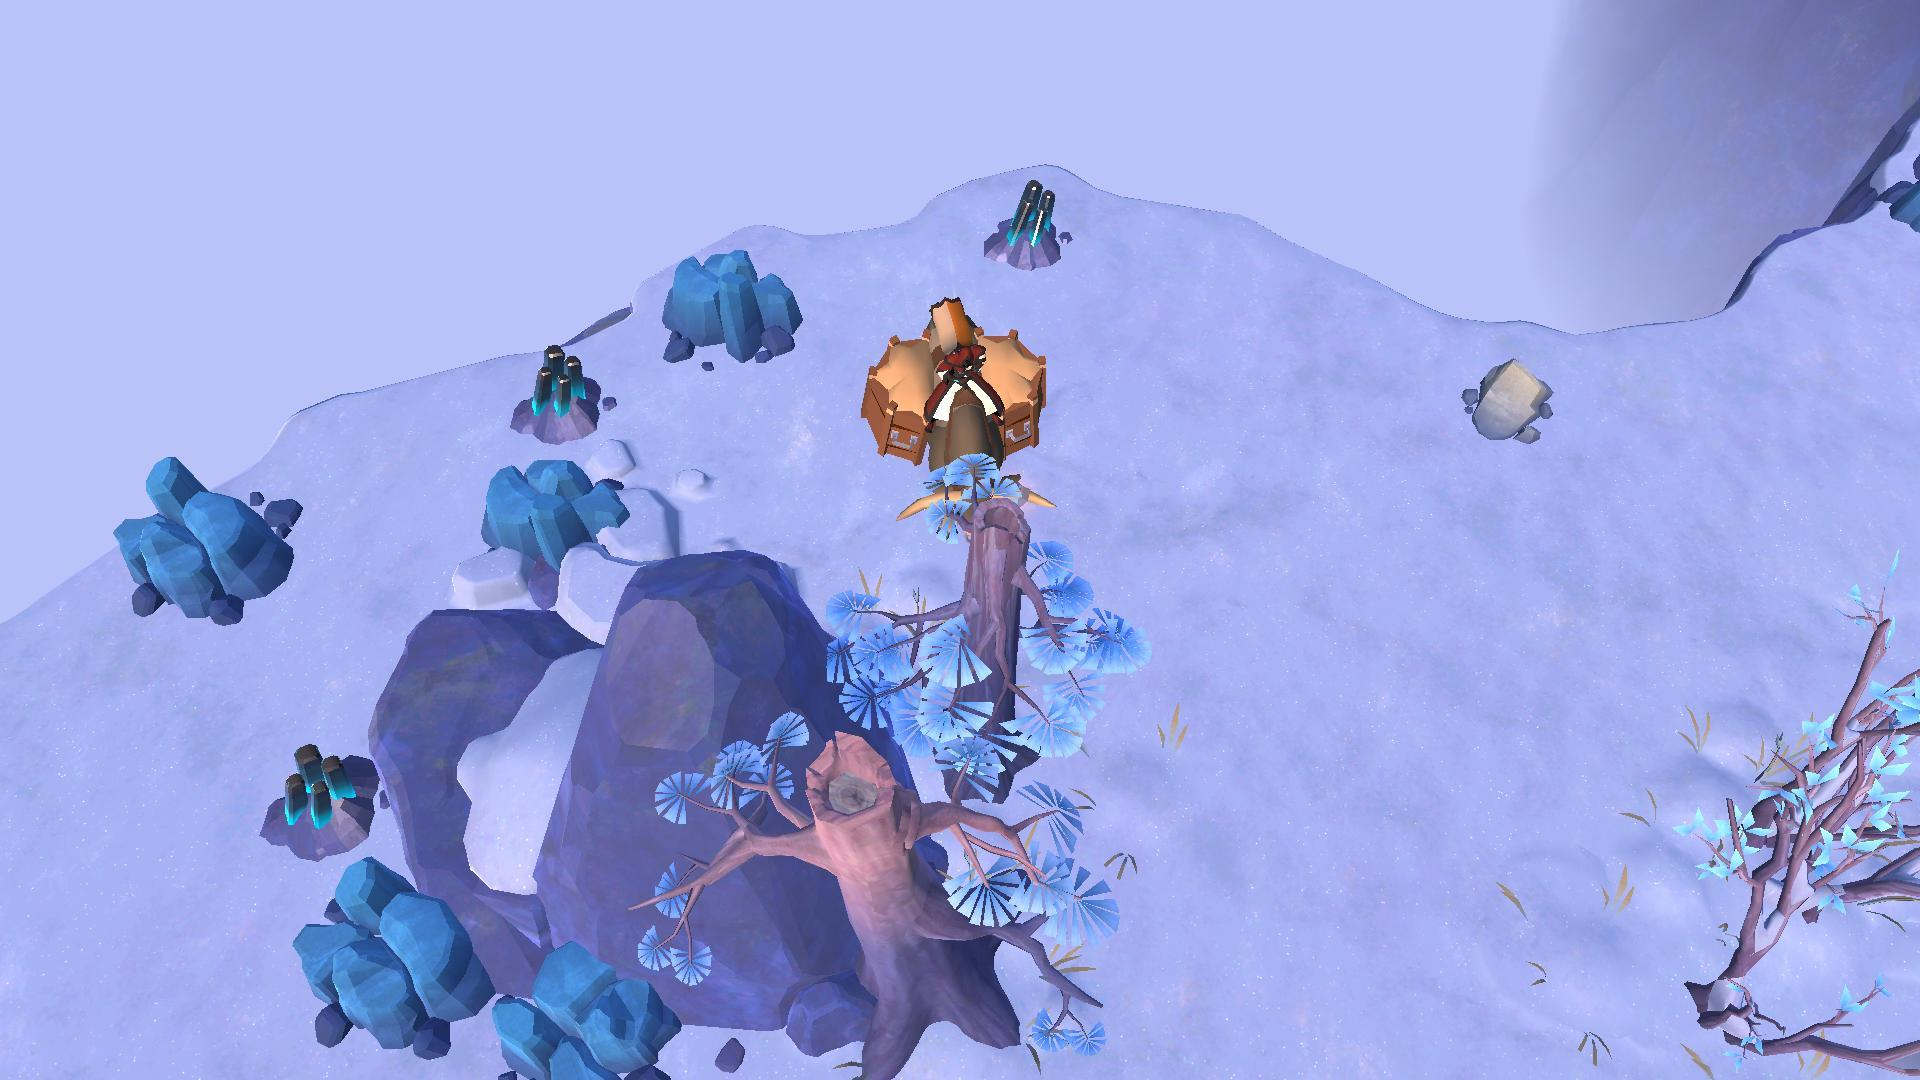ore_t4: (276, 740, 351, 829), (524, 343, 593, 414), (998, 179, 1059, 257)
rock_t4: (298, 849, 489, 1068), (111, 451, 289, 634), (495, 938, 684, 1080), (475, 450, 637, 585), (650, 245, 819, 364)
